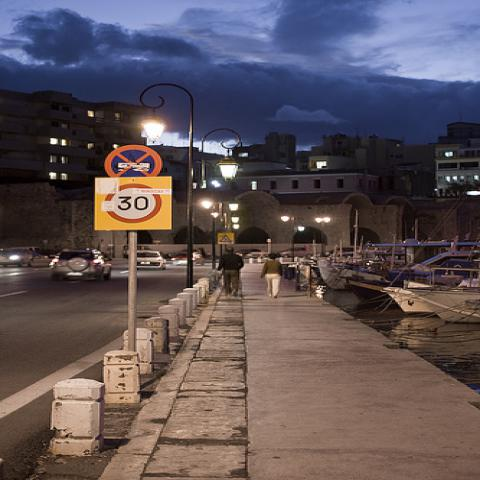car: (50, 250, 113, 282), (136, 246, 173, 269), (0, 249, 34, 267), (235, 248, 269, 259), (171, 252, 187, 265)
